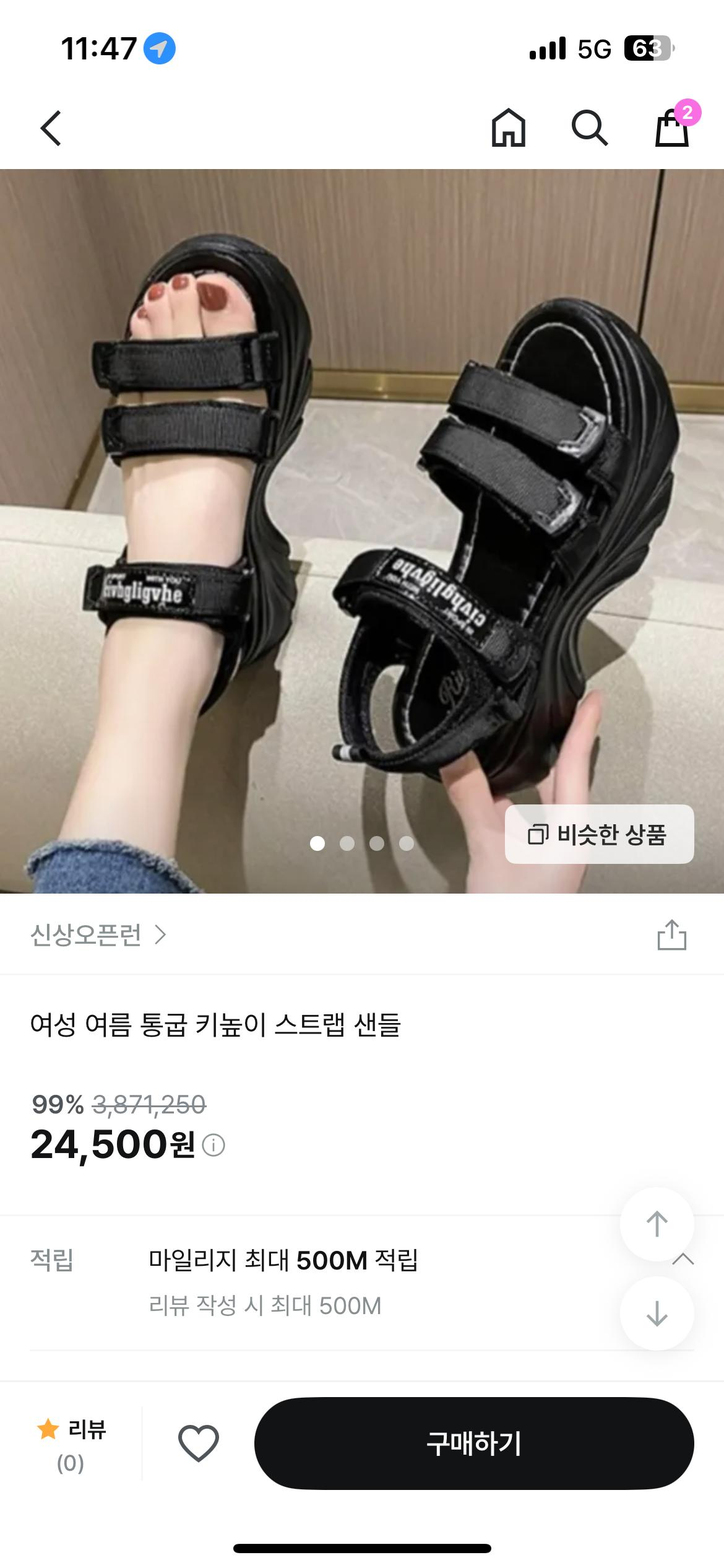button: (252, 1397, 701, 1488), (501, 803, 695, 867), (27, 914, 171, 958), (650, 95, 705, 153), (563, 103, 617, 155), (644, 912, 695, 958), (485, 107, 534, 151), (37, 105, 78, 153)
